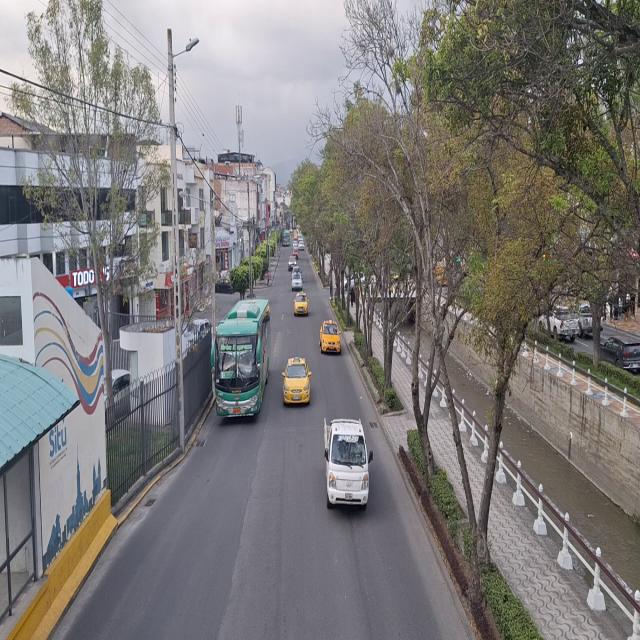BUS: (210, 301, 266, 422)
CMT: (540, 307, 578, 343), (572, 304, 603, 335)
TRUCK: (327, 422, 374, 512)
